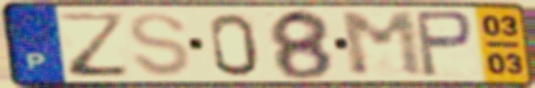0: (205, 11, 263, 78)
8: (265, 6, 338, 82)
M: (336, 9, 430, 79)
P: (411, 8, 477, 80)
S: (126, 10, 194, 79)
Z: (56, 10, 134, 79)
